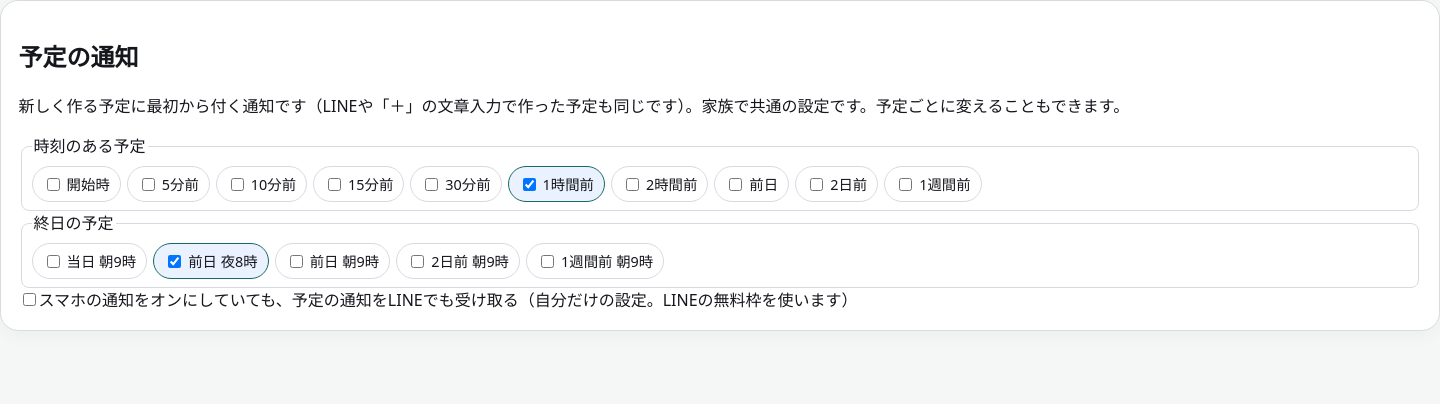
Test case: ReminderSettingsSection › lets a person also receive reminders by LINE when push is on
What coordinates should you click on to do the following:
click the checkbox labelled "スマホの通知をオンにしていても、予定の通知をLINEでも受け取る（自分だけの設定。LINEの無料枠を使います）"
I would click on:
 (29, 300)
Its box is [23,293,36,306].
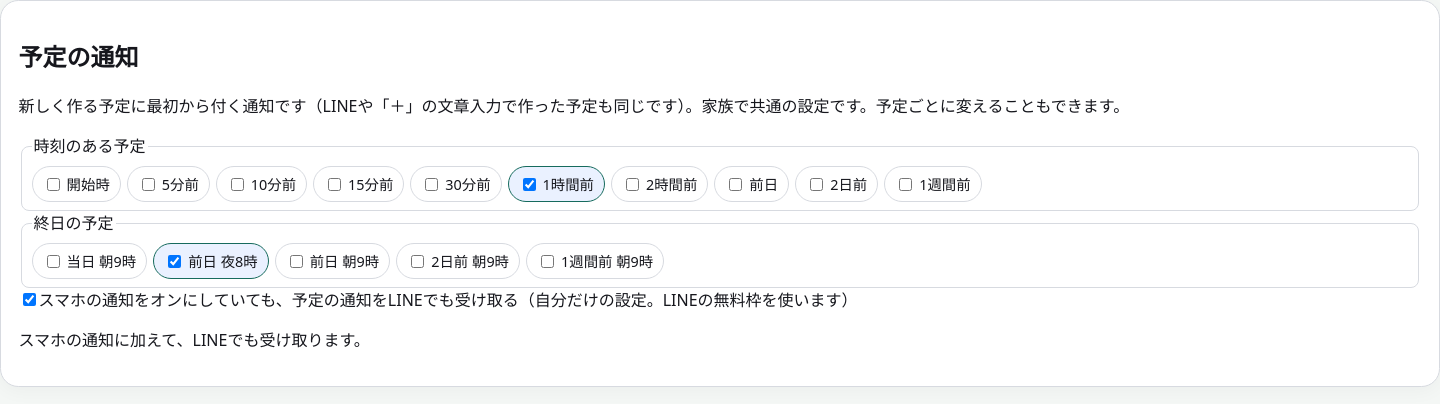
Now the text "スマホの通知に加えて、LINEでも受け取ります。" is shown, box [19,329,370,351]
